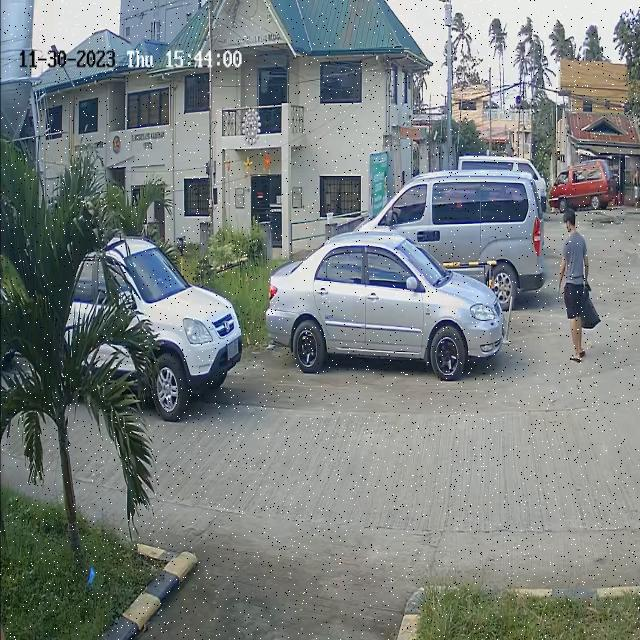human: (557, 202, 590, 363)
trash: (578, 278, 601, 334)
